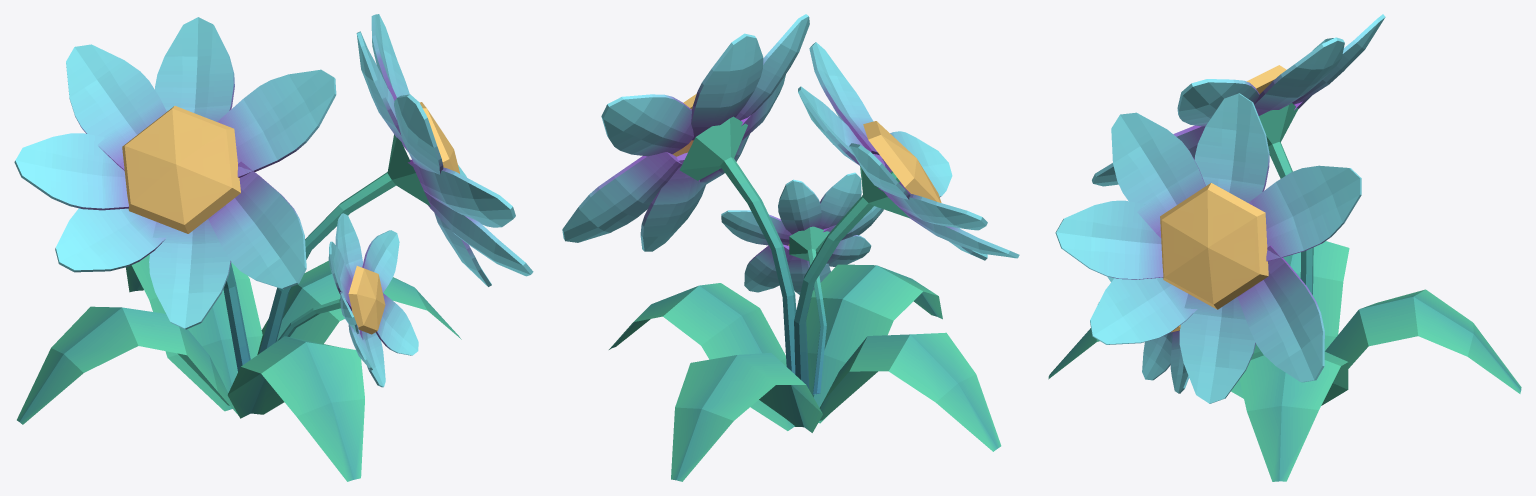
The model's file is flower.obj.
The picture shows the model from 3 angles, left to right: view 1: azimuth 30°, elevation 25°; view 2: azimuth 150°, elevation 25°; view 3: azimuth 270°, elevation 25°; orthographic projection. The views are drawn at different scales.
Parts seen in each view (by area): view 1: flower; view 2: flower; view 3: flower.
Part boxes in pixels (left/top/right/bottom): flower: left=14, top=14, right=533, bottom=481; flower: left=562, top=14, right=1019, bottom=481; flower: left=1048, top=14, right=1521, bottom=481.
Size of the model in its own units: 2.29 by 1.82 by 2.15.
Materials: 1 (1 with a texture image).
